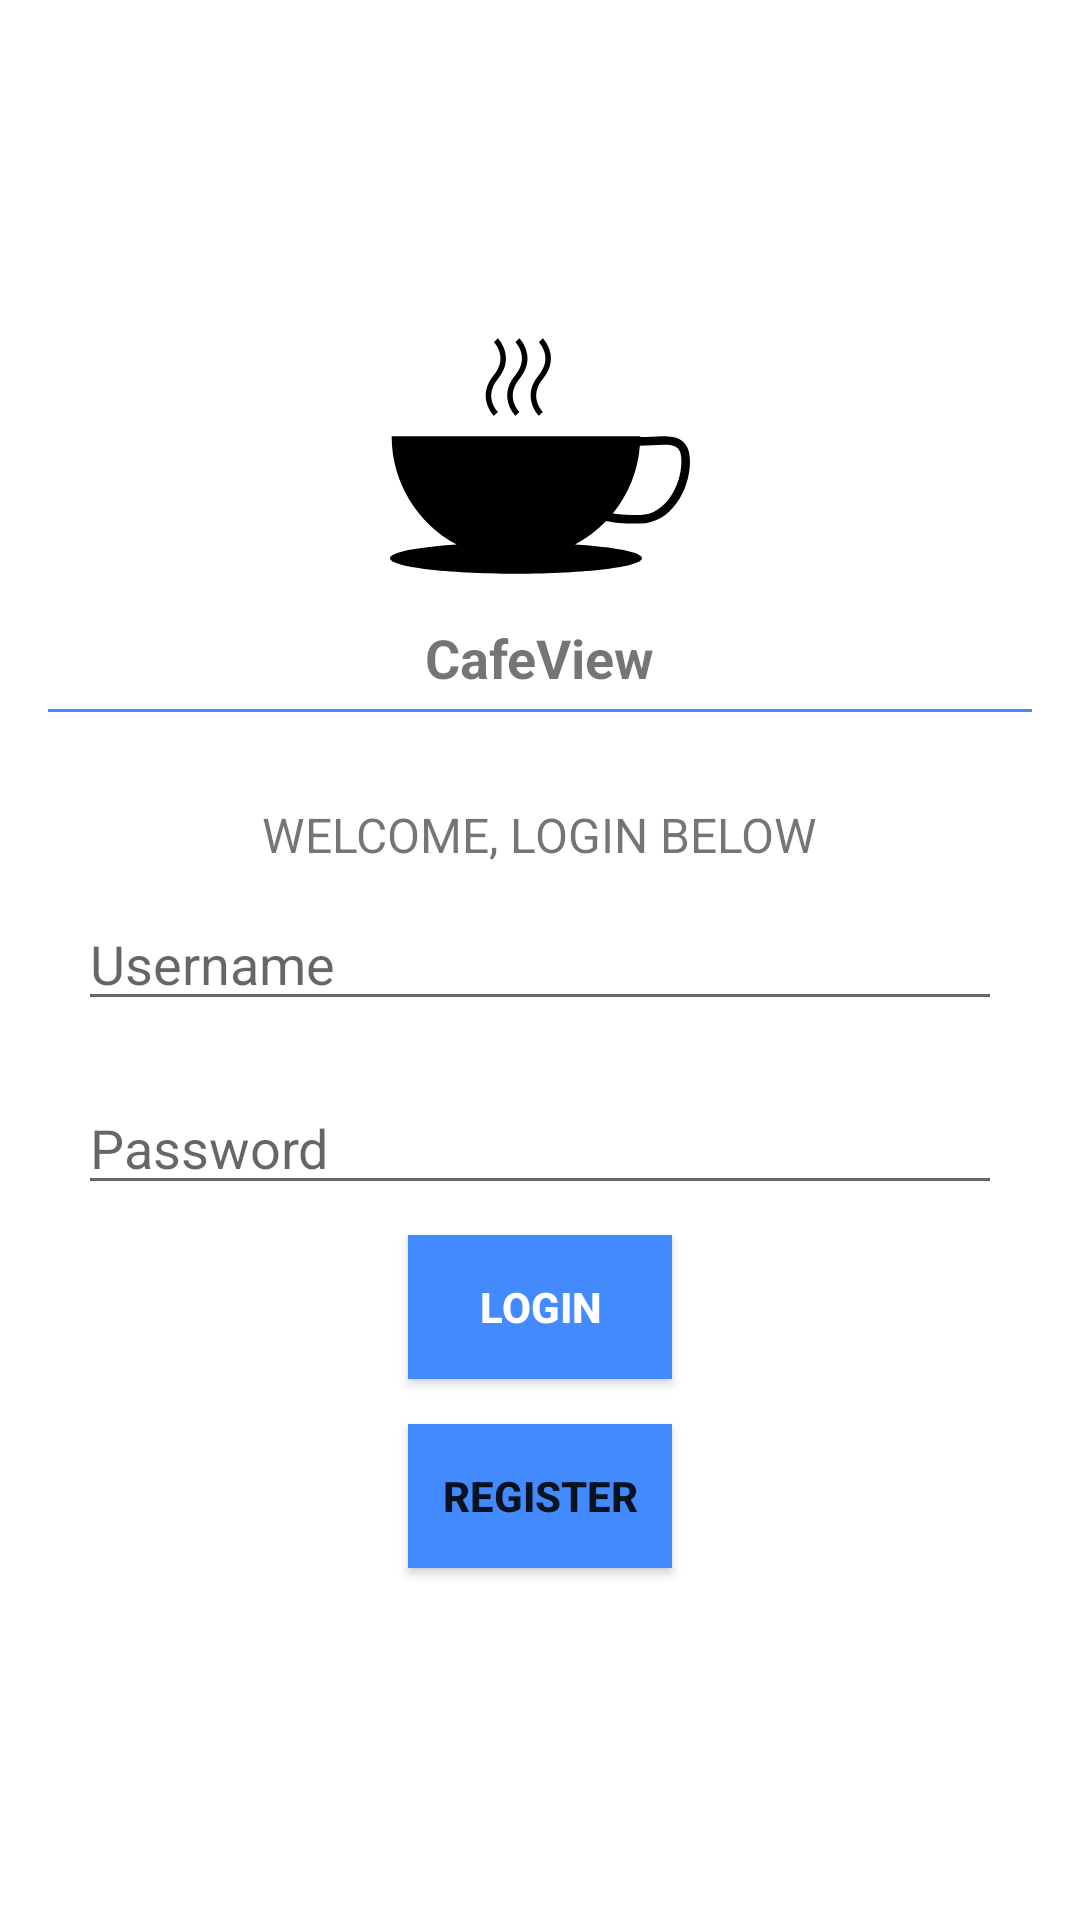

Icon click points for this 1080*1920 phone screenshot, format (x=x, y=y):
coffee: (x=540, y=456)
